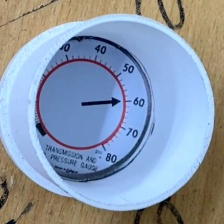gauge: (34, 36, 150, 180)
